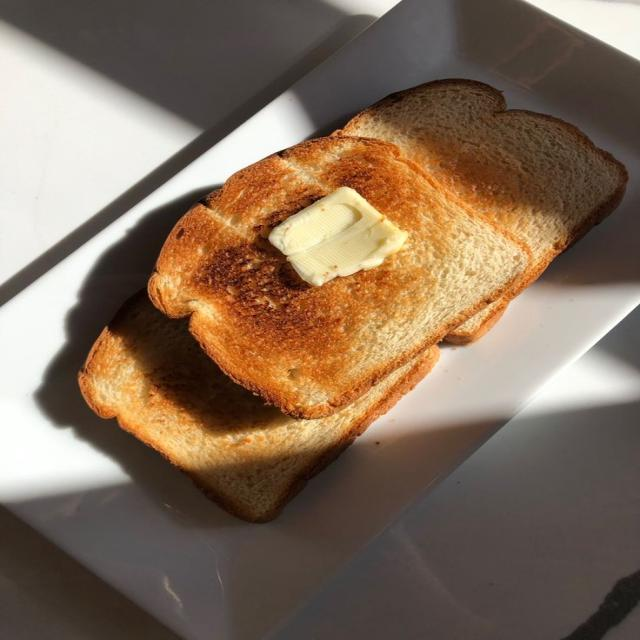toast bread: (149, 135, 529, 418), (79, 292, 438, 522), (337, 79, 627, 281)
